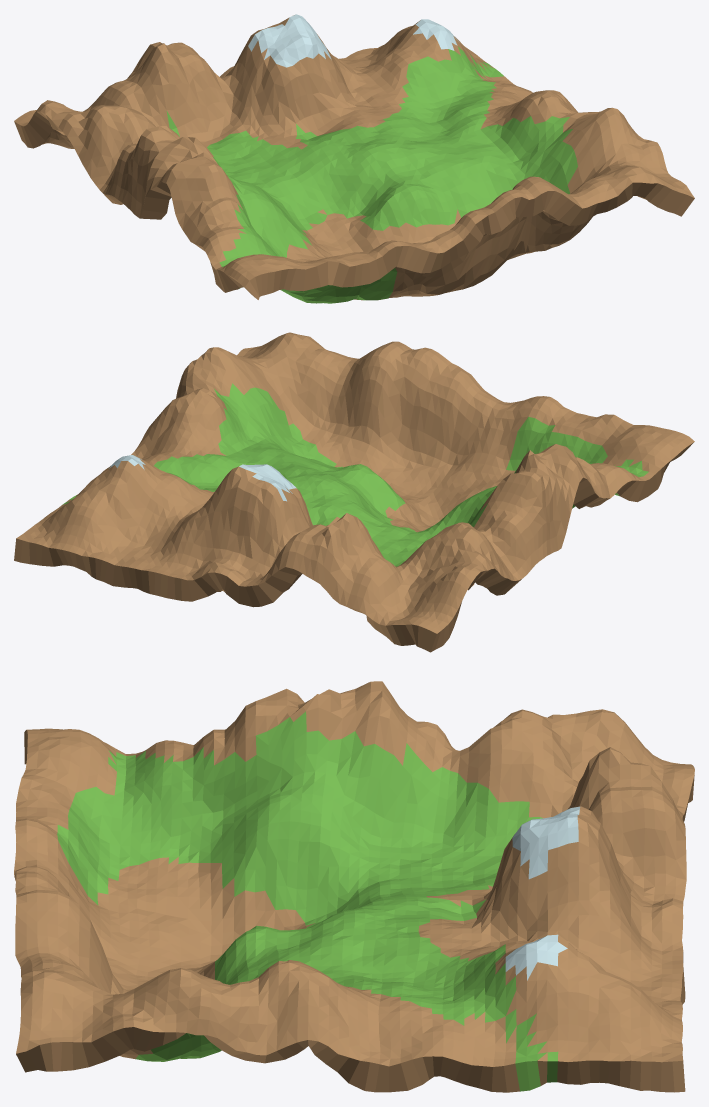
File: testland.fbx
3 views of the same model, one above another, from view 1: azimuth 30°, elevation 25°; view 2: azimuth 150°, elevation 25°; view 3: azimuth 270°, elevation 25° (orthographic). The views are drawn at different scales.
Visible parts, largest first — view 1: 평면; view 2: 평면; view 3: 평면.
Part boxes in pixels (x1=…): 평면: x1=14, y1=14, x2=694, y2=303; 평면: x1=14, y1=332, x2=694, y2=652; 평면: x1=14, y1=681, x2=694, y2=1092.
Size of the model in its own units: 2133 by 726 by 2039.
